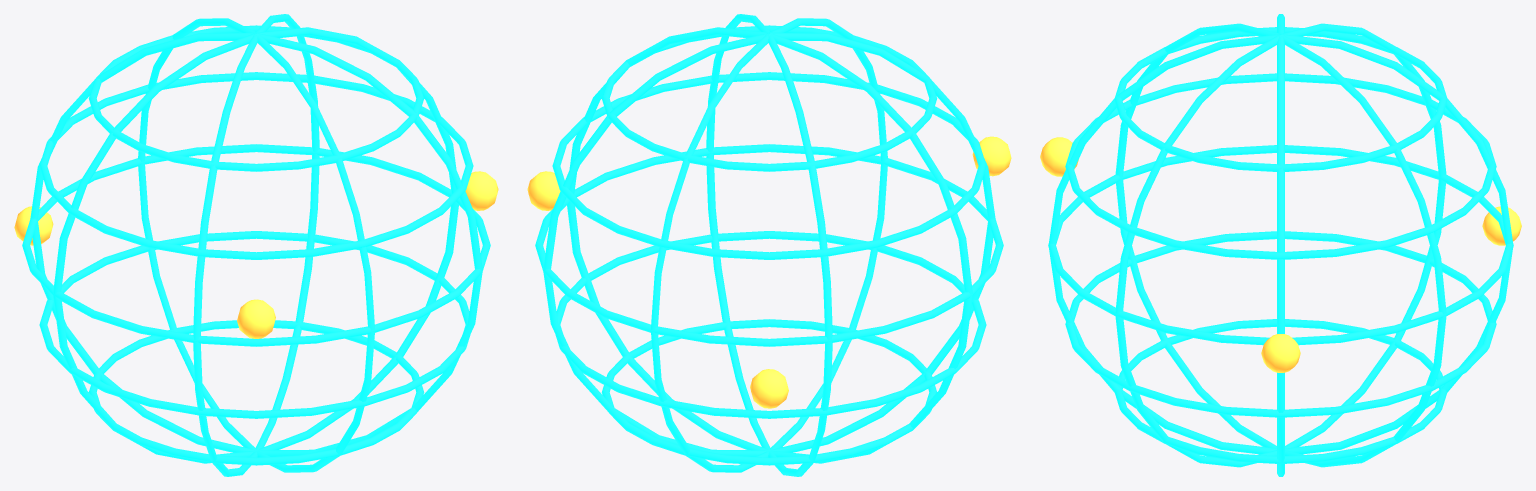
Rendered from titan_trap_projectile.glb.
The picture shows the model from 3 angles, left to right: view 1: azimuth 30°, elevation 25°; view 2: azimuth 150°, elevation 25°; view 3: azimuth 270°, elevation 25°; orthographic projection.
Visible parts, largest first — view 1: Energy net latitude.002, Energy net latitude.003, Energy net latitude.001, Energy net latitude, Energy net latitude.004, Energy net meridian.007, Energy net meridian.003, Energy net meridian.004, Energy net meridian, Energy net meridian.006, Energy net meridian.005, Energy net meridian.002 (+4 smaller); view 2: Energy net latitude.002, Energy net latitude.003, Energy net latitude.001, Energy net latitude, Energy net latitude.004, Energy net meridian.001, Energy net meridian.005, Energy net meridian.004, Energy net meridian, Energy net meridian.002, Energy net meridian.003, Energy net meridian.006 (+4 smaller); view 3: Energy net latitude.002, Energy net latitude.001, Energy net latitude.003, Energy net latitude, Energy net latitude.004, Energy net meridian.002, Energy net meridian.006, Energy net meridian.001, Energy net meridian.007, Energy net meridian.003, Energy net meridian.005, Energy net meridian (+3 smaller).
Part boxes in pixels (x1,y1,x2,y2): Energy net latitude.002: [22, 144, 490, 346]; Energy net latitude.003: [39, 72, 473, 259]; Energy net latitude.001: [39, 231, 470, 418]; Energy net latitude: [89, 320, 424, 465]; Energy net latitude.004: [88, 25, 424, 171]; Energy net meridian.007: [256, 33, 482, 456]; Energy net meridian.003: [30, 32, 256, 452]; Energy net meridian.004: [53, 33, 256, 463]; Energy net meridian: [256, 27, 458, 450]; Energy net meridian.006: [255, 33, 374, 472]; Energy net meridian.005: [193, 33, 257, 476]; Energy net meridian.002: [138, 18, 256, 450]; Energy net latitude.002: [535, 144, 1003, 346]; Energy net latitude.003: [552, 72, 986, 259]; Energy net latitude.001: [555, 231, 986, 418]; Energy net latitude: [601, 319, 936, 465]; Energy net latitude.004: [601, 25, 937, 171]; Energy net meridian.001: [543, 33, 769, 456]; Energy net meridian.005: [769, 32, 995, 452]; Energy net meridian.004: [769, 33, 972, 463]; Energy net meridian: [567, 27, 769, 450]; Energy net meridian.002: [651, 33, 770, 472]; Energy net meridian.003: [768, 33, 832, 476]; Energy net meridian.006: [769, 18, 887, 450]; Energy net latitude.002: [1048, 145, 1513, 345]; Energy net latitude.001: [1065, 231, 1496, 417]; Energy net latitude.003: [1065, 73, 1496, 259]; Energy net latitude: [1114, 319, 1447, 463]; Energy net latitude.004: [1114, 27, 1447, 171]; Energy net meridian.002: [1281, 34, 1513, 454]; Energy net meridian.006: [1048, 34, 1280, 454]; Energy net meridian.001: [1280, 34, 1446, 467]; Energy net meridian.007: [1115, 34, 1281, 467]; Energy net meridian.003: [1280, 23, 1446, 448]; Energy net meridian.005: [1115, 23, 1281, 448]; Energy net meridian: [1277, 35, 1284, 476].
Bounding box in the file's own units: 1.15 × 1.06 × 1.09.
